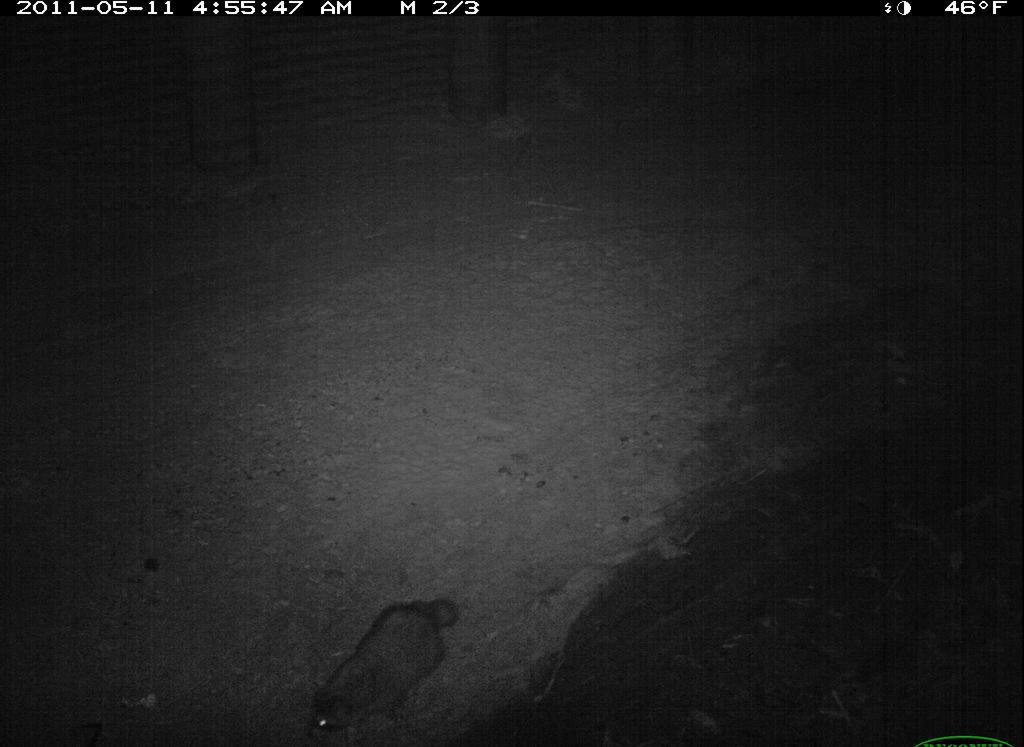raccoon: (290, 583, 500, 743)
